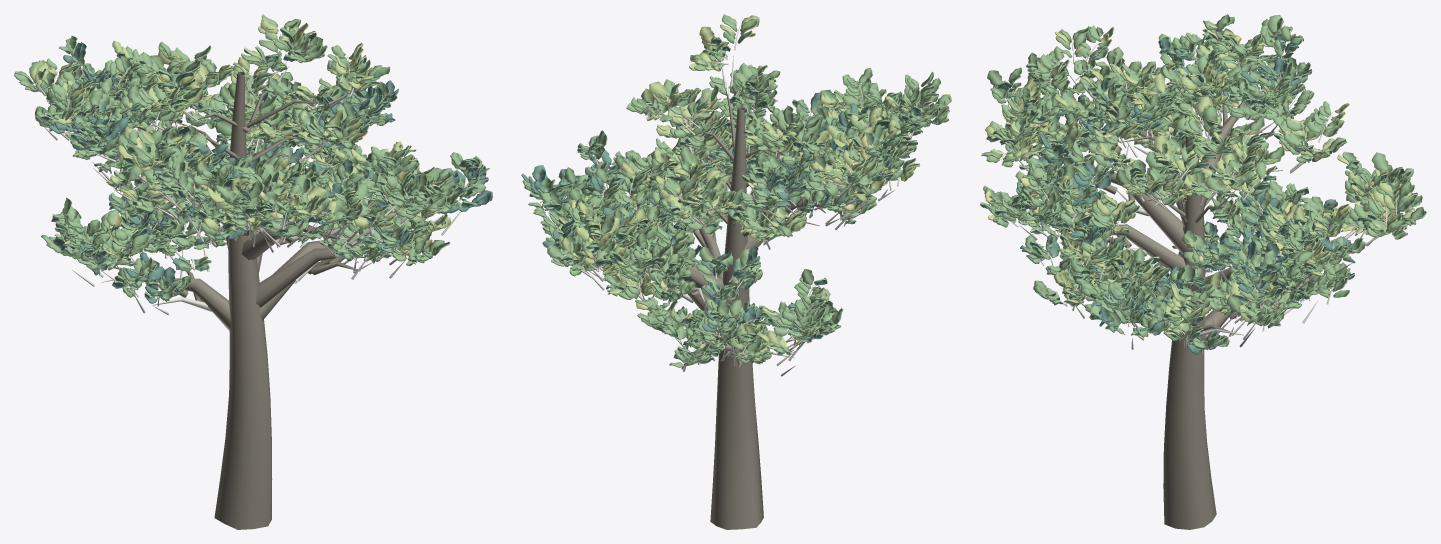
Rendered from r30-oak-arch-baseline.glb.
The picture shows the model from 3 angles, left to right: view 1: azimuth 30°, elevation 25°; view 2: azimuth 150°, elevation 25°; view 3: azimuth 270°, elevation 25°; orthographic projection. The views are drawn at different scales.
Parts seen in each view (by area): view 1: oak_arch; view 2: oak_arch; view 3: oak_arch.
Part boxes in pixels (x1,y1,x2,y2): oak_arch: [14, 14, 492, 529]; oak_arch: [521, 14, 951, 529]; oak_arch: [980, 14, 1426, 529].
Bounding box in the file's own units: 7.56 × 8.66 × 7.76.
